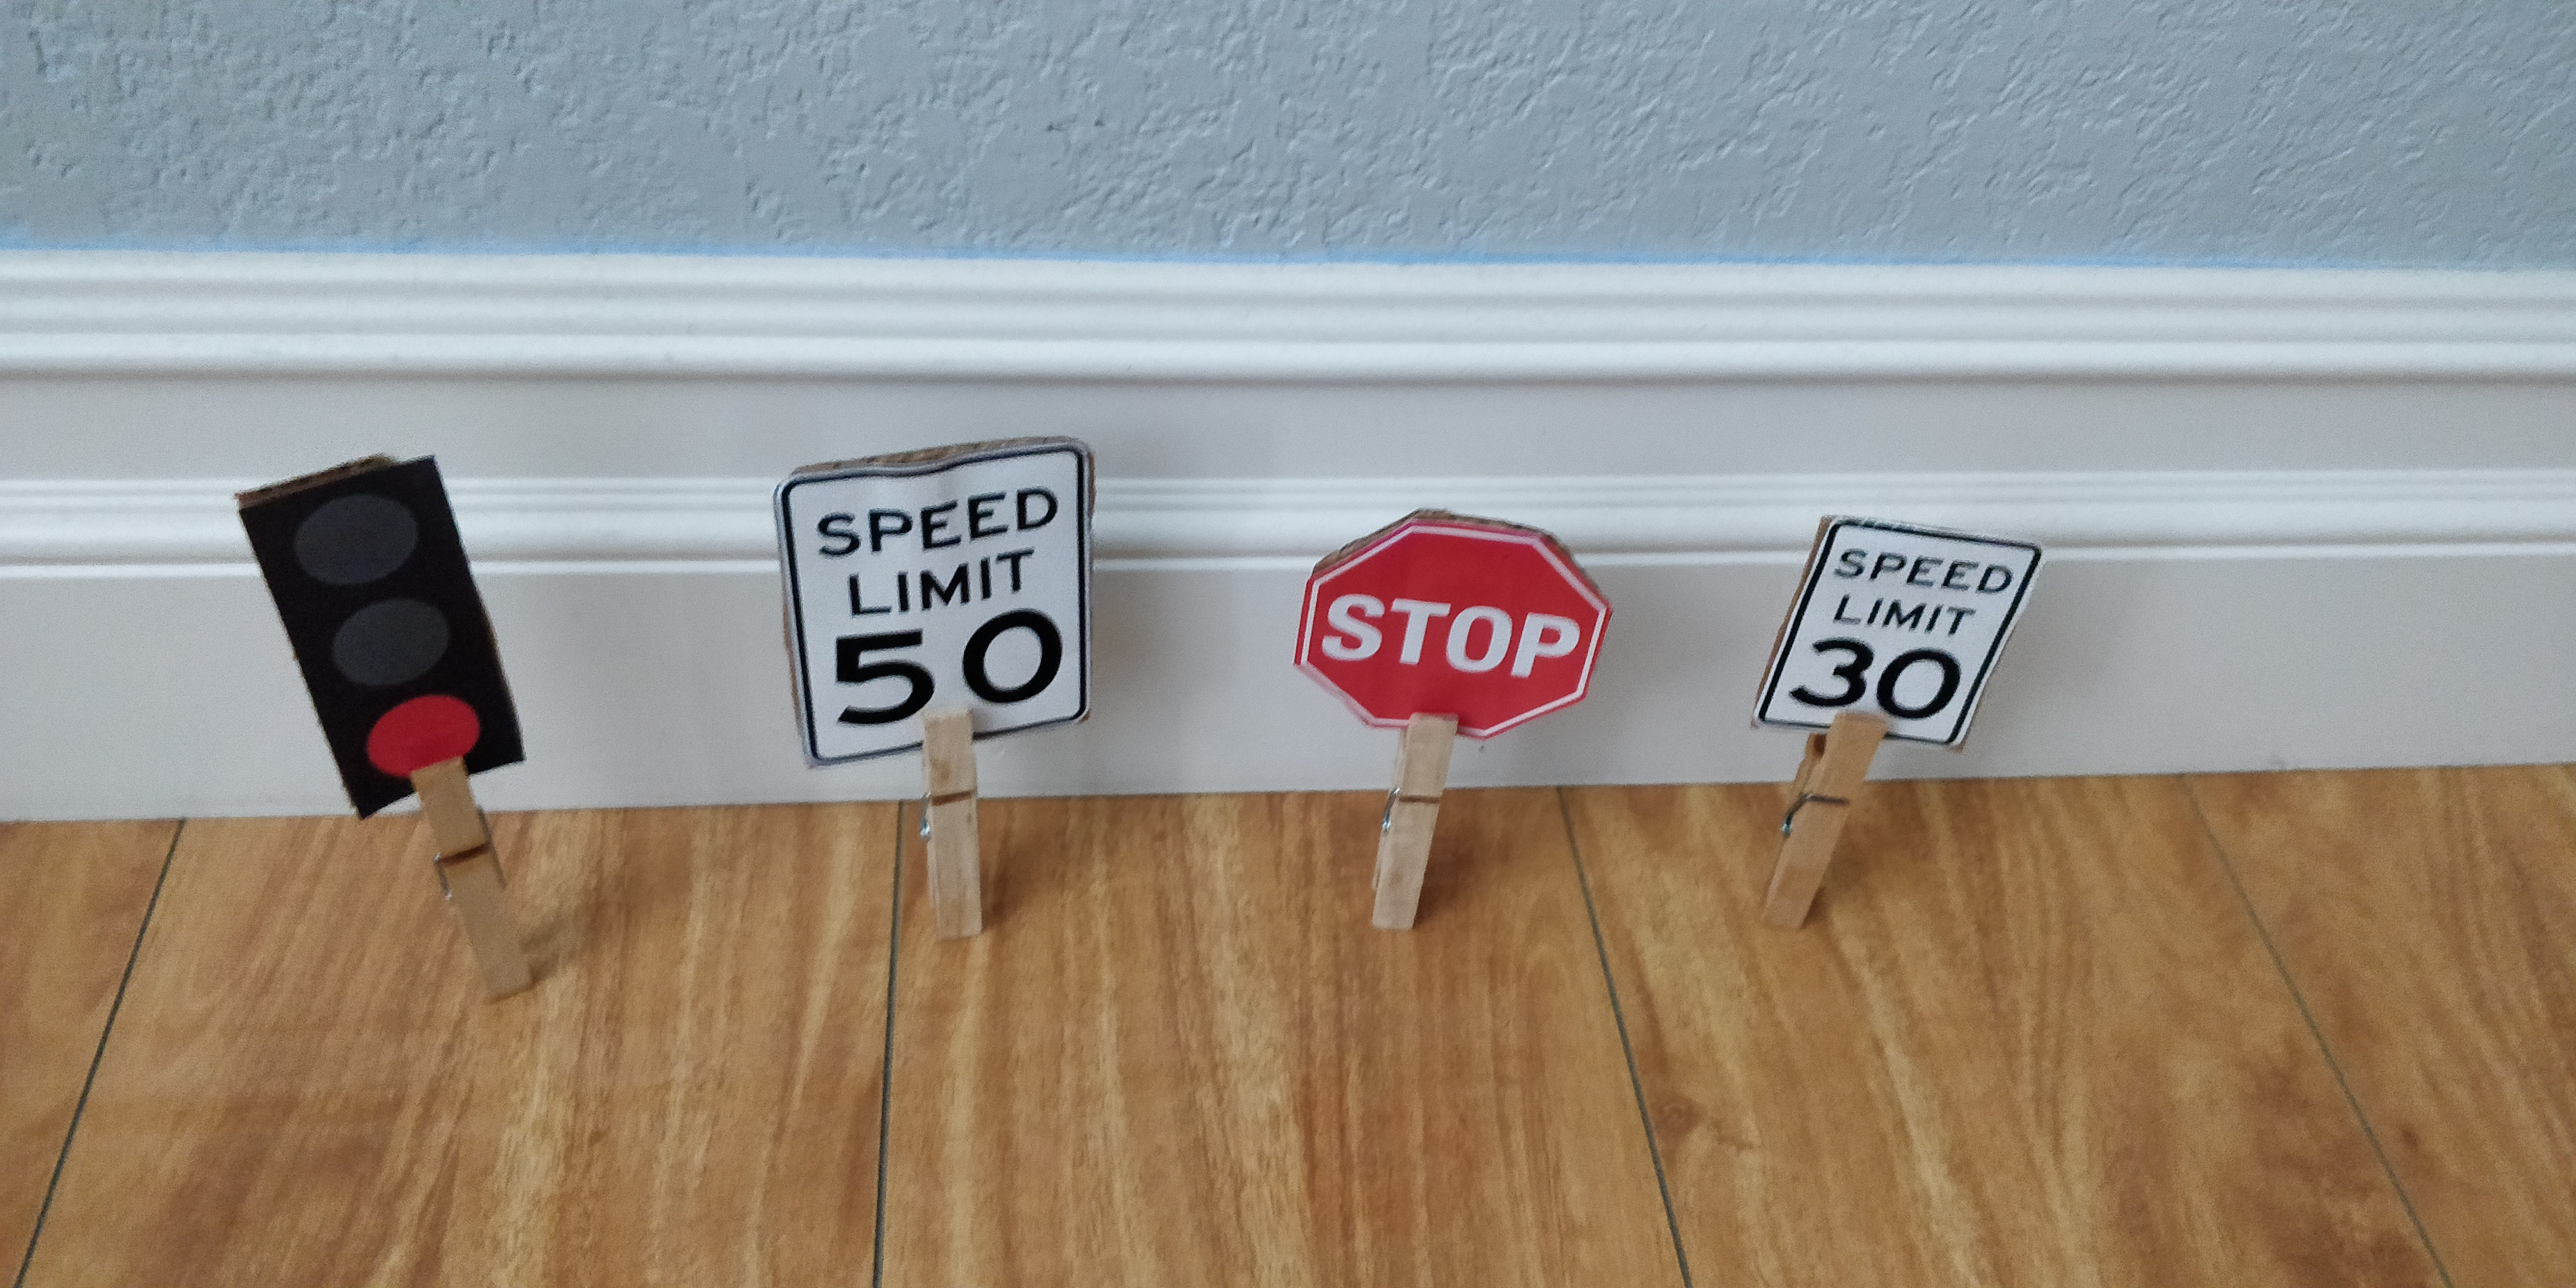Speed Limit 30: (1753, 514, 2040, 752)
Speed Limit 50: (772, 435, 1093, 771)
Stop Sign: (1293, 508, 1612, 743)
red light: (232, 452, 527, 821)
